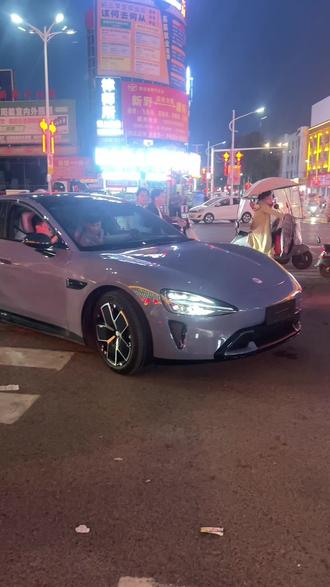other: (188, 187, 260, 234)
su7: (0, 188, 300, 370)
